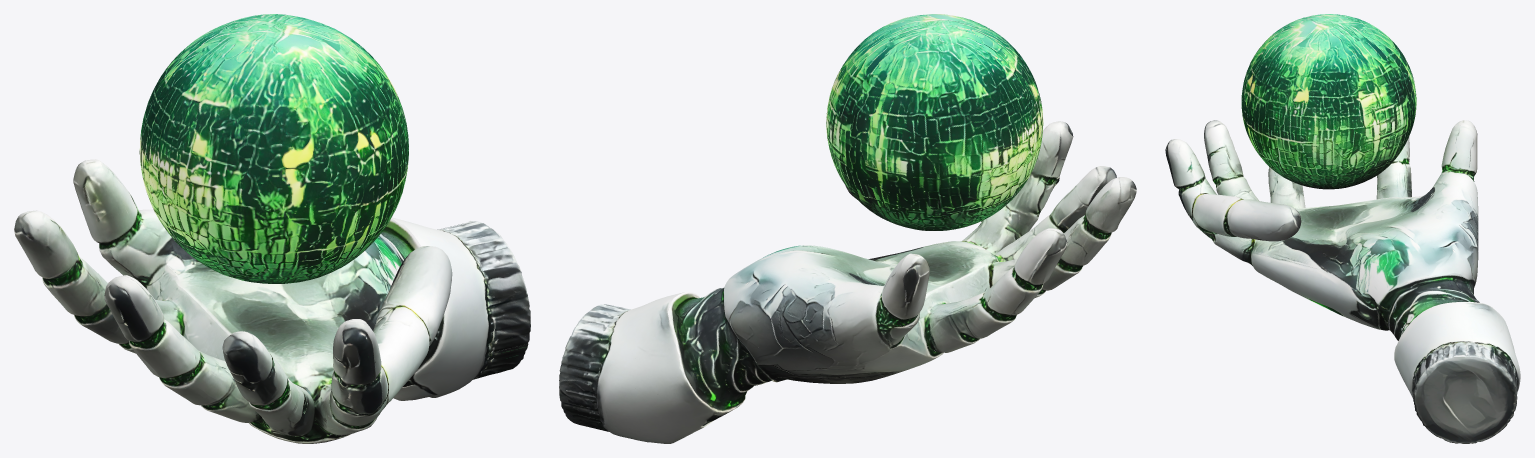
Rendered from robot_hand.glb.
3 views of the same model, side by side, from view 1: azimuth 30°, elevation 25°; view 2: azimuth 150°, elevation 25°; view 3: azimuth 270°, elevation 25° (orthographic). The views are drawn at different scales.
Visible parts, largest first — view 1: Mesh; view 2: Mesh; view 3: Mesh.
Boxes of the visible parts, left/top/right/bottom form: Mesh: left=14, top=14, right=530, bottom=443; Mesh: left=559, top=14, right=1136, bottom=443; Mesh: left=1165, top=14, right=1520, bottom=443.
Size of the model in its own units: 1.9 by 1.68 by 1.69.
1 material, 1 textured.
